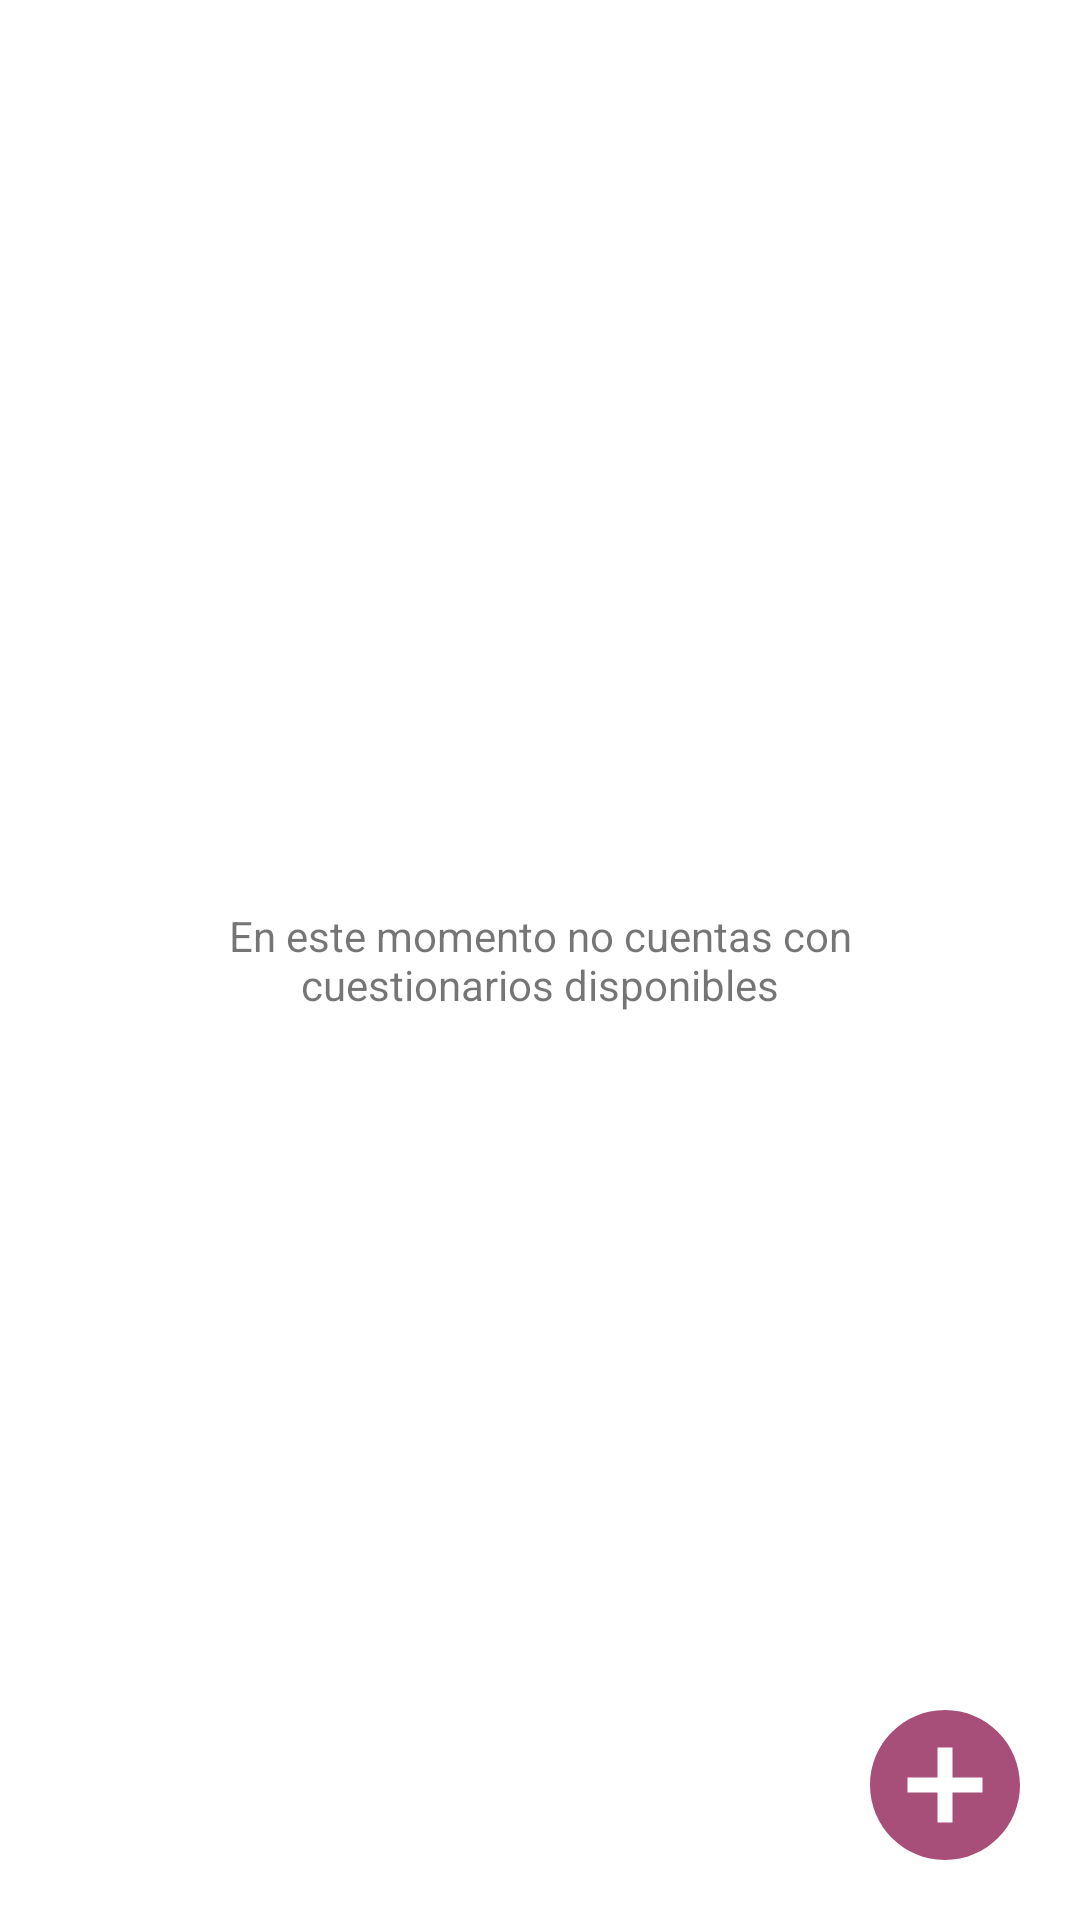

Where to tap for icons on this 1080*1920 app screen, as point (x, y):
add circle: point (945, 1785)
